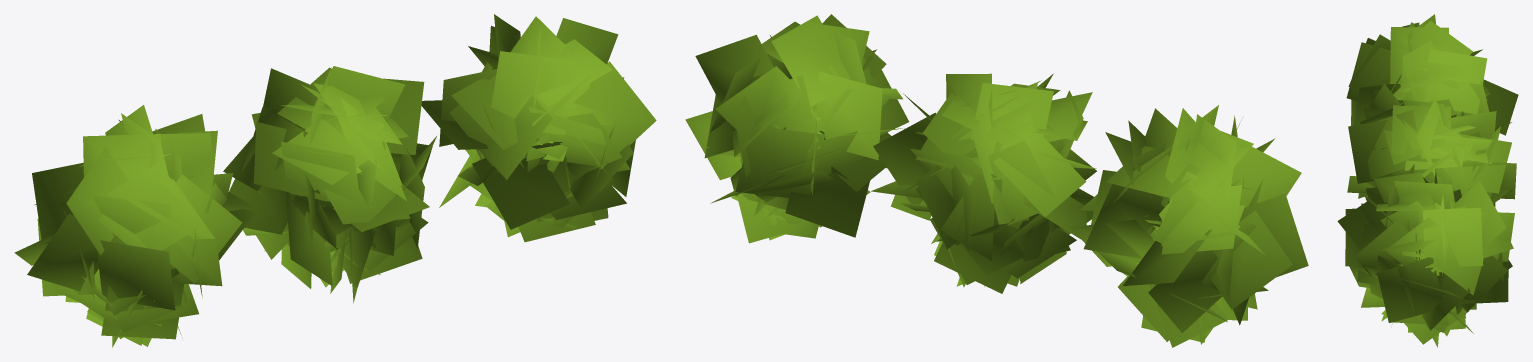
Rendered from bush.glb.
3 views of the same model, side by side, from view 1: azimuth 30°, elevation 25°; view 2: azimuth 150°, elevation 25°; view 3: azimuth 270°, elevation 25° (orthographic). The views are drawn at different scales.
Visible parts, largest first — view 1: BushA, BushB, BushC; view 2: BushA, BushC, BushB; view 3: BushC, BushB, BushA.
Part boxes in pixels (<box>): BushA: <box>14,105,255,347</box>; BushB: <box>223,66,436,303</box>; BushC: <box>421,14,656,242</box>; BushA: <box>1070,105,1308,347</box>; BushC: <box>685,14,909,243</box>; BushB: <box>871,73,1096,293</box>; BushC: <box>1337,164,1514,347</box>; BushB: <box>1347,98,1516,206</box>; BushA: <box>1346,14,1518,135</box>.
Bounding box in the file's own units: 18.33 × 6.67 × 6.23.
